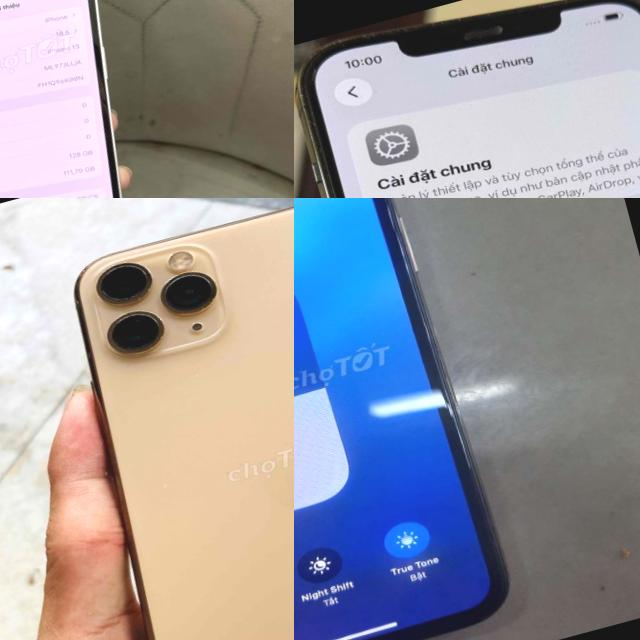gen_11: (38, 198, 294, 640)
gen_12_13: (294, 0, 640, 198), (0, 0, 187, 198)
gen_x_xs: (294, 198, 542, 640)
